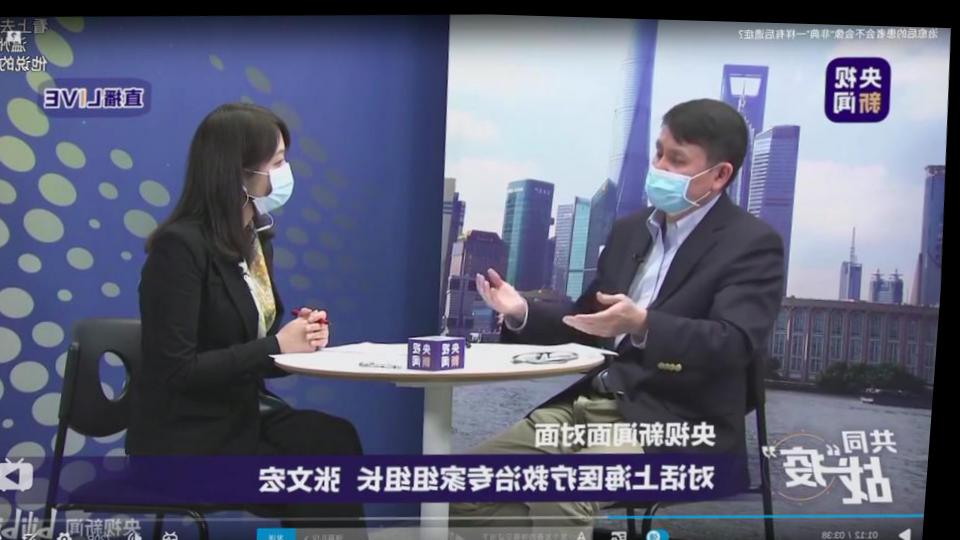OK: (248, 132, 301, 213)
WRONG: (646, 130, 707, 212)
